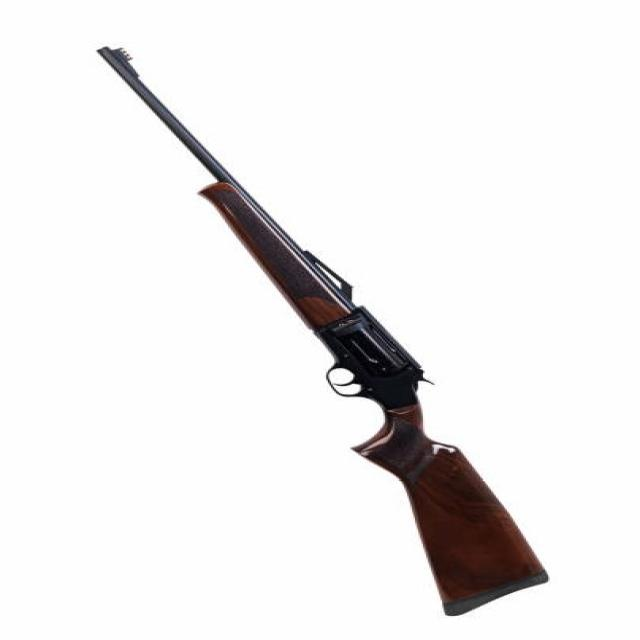rifle: (92, 31, 573, 632)
